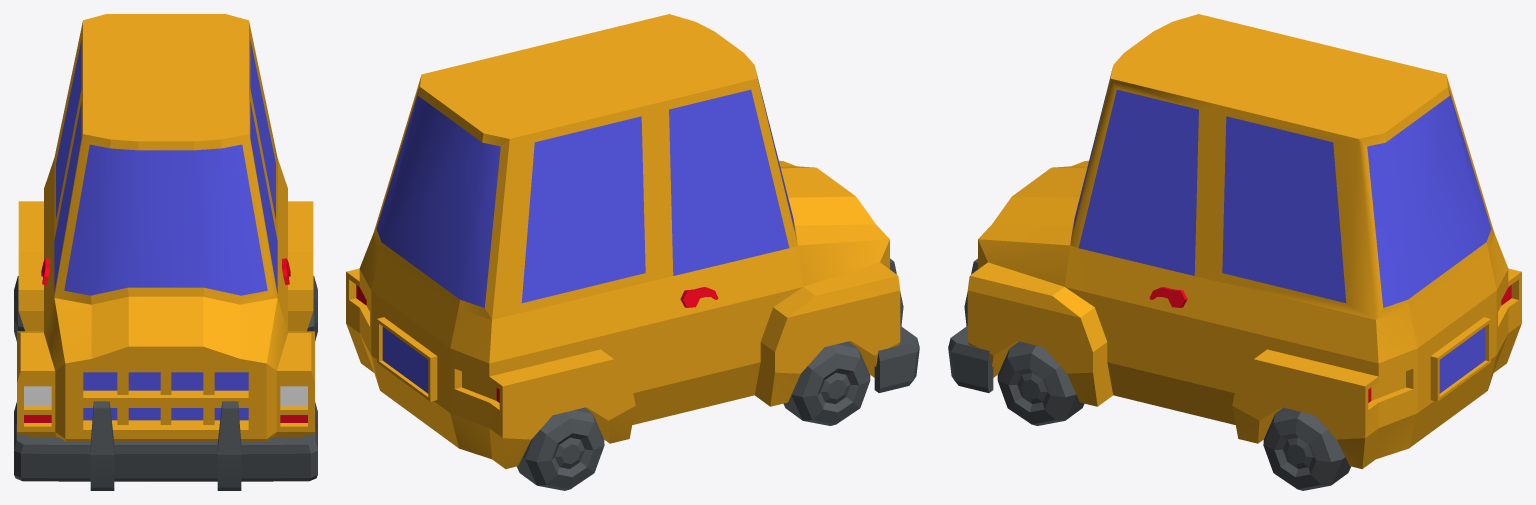
File: Toy141.fbx
The picture shows the model from 3 angles, left to right: view 1: azimuth 30°, elevation 25°; view 2: azimuth 150°, elevation 25°; view 3: azimuth 270°, elevation 25°; orthographic projection. The views are drawn at different scales.
Visible parts, largest first — view 1: Toy141; view 2: Toy141; view 3: Toy141.
Part boxes in pixels (<box>): Toy141: <box>14,14,317,490</box>; Toy141: <box>346,14,919,490</box>; Toy141: <box>948,14,1521,490</box>.
Size of the model in its own units: 0.1994 by 0.1445 by 0.2229.
